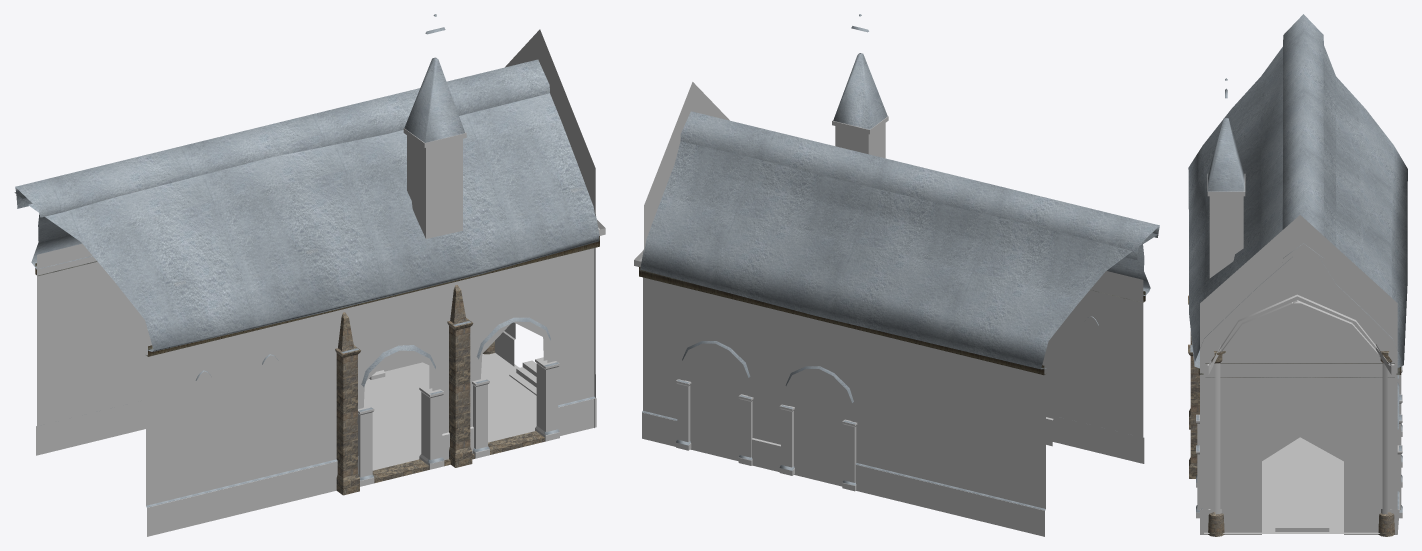
The model's file is guodao_no.fbx.
3 views of the same model, side by side, from view 1: azimuth 30°, elevation 25°; view 2: azimuth 150°, elevation 25°; view 3: azimuth 270°, elevation 25° (orthographic). The views are drawn at different scales.
Parts seen in each view (by area): view 1: guodao_xue_no, guodao_qiang1_no, guodao_zhuzi_no, guodao_dimian_no, guodao_fangyan_no; view 2: guodao_xue_no, guodao_qiang1_no, guodao_qiang3_no, guodao_fangyan_no; view 3: guodao_qiang1_no, guodao_xue_no, guodao_dimian_no, guodao_zhuzi_no, guodao_ding_no, guodao_fangyan_no.
Part boxes in pixels (x1,y1,x2,y2): guodao_xue_no: (14,14,599,507); guodao_qiang1_no: (36,29,605,536); guodao_zhuzi_no: (335,285,545,495); guodao_dimian_no: (364,353,536,470); guodao_fangyan_no: (35,236,599,356); guodao_xue_no: (640,14,1159,510); guodao_qiang1_no: (634,82,1144,536); guodao_qiang3_no: (685,347,850,486); guodao_fangyan_no: (639,267,1145,375); guodao_qiang1_no: (1196,174,1402,534); guodao_xue_no: (1188,14,1407,512); guodao_dimian_no: (1204,437,1379,533); guodao_zhuzi_no: (1188,295,1394,536); guodao_ding_no: (1210,294,1390,531); guodao_fangyan_no: (1198,363,1401,377).
Size of the model in its own units: 33.1 by 25.83 by 13.06.
